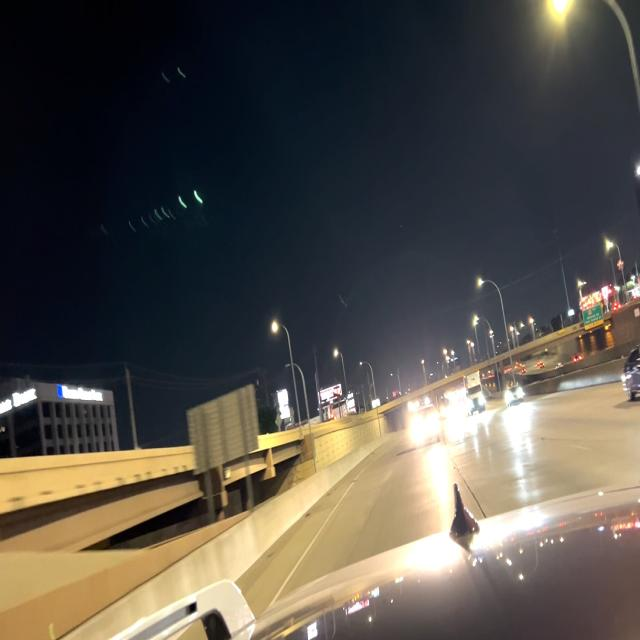back-of-sign: (187, 384, 259, 472)
